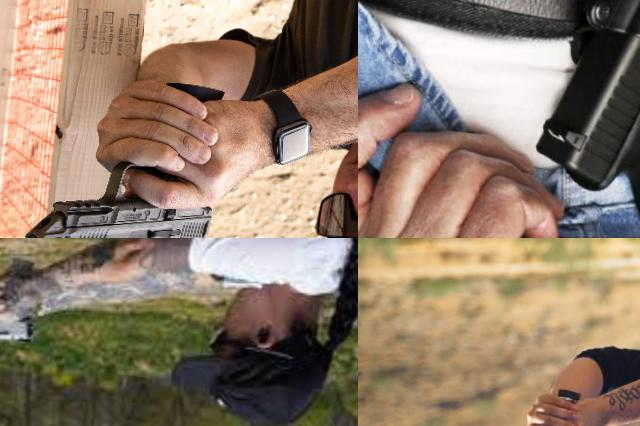handgun: (17, 75, 229, 238), (527, 14, 640, 238), (0, 251, 52, 347), (485, 385, 584, 426)
